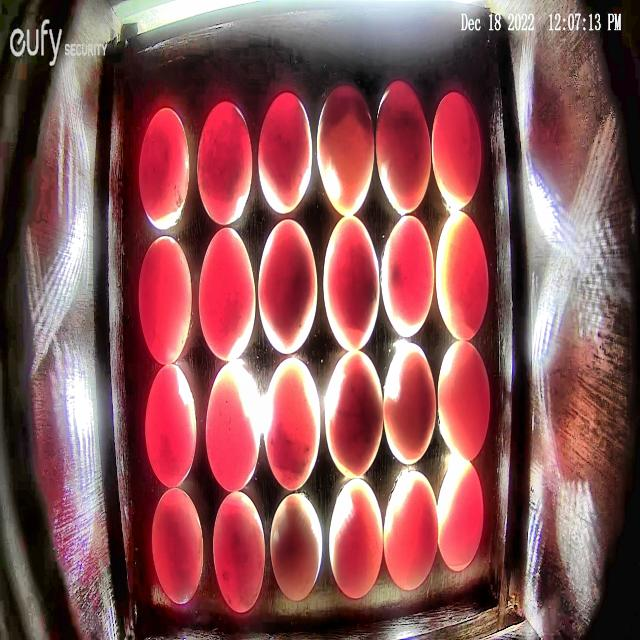FE: (322, 212, 380, 352), (258, 219, 318, 354), (197, 226, 255, 361), (204, 362, 262, 494), (375, 81, 432, 215), (263, 358, 320, 492), (316, 85, 374, 216), (324, 351, 384, 475), (195, 99, 252, 226), (138, 236, 192, 366), (436, 210, 489, 342), (380, 214, 434, 338), (212, 490, 266, 614), (146, 361, 198, 489), (258, 91, 312, 214), (437, 339, 491, 462), (329, 478, 383, 600), (384, 469, 438, 591), (138, 106, 190, 232), (151, 486, 205, 606), (384, 340, 436, 464), (432, 90, 482, 209), (270, 494, 324, 602), (437, 459, 483, 572)
